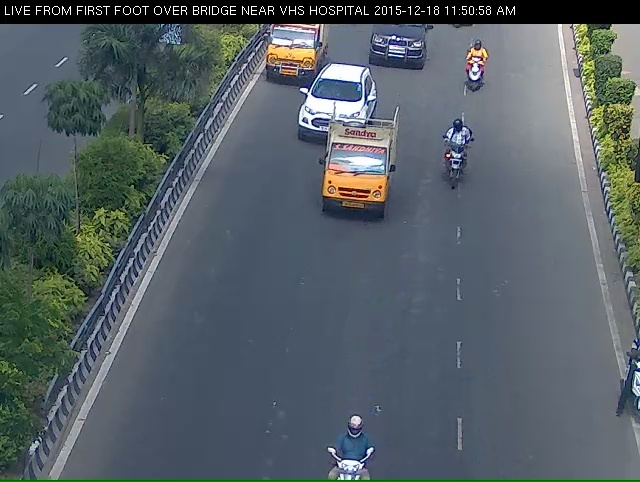Auto: (321, 131, 398, 237), (258, 21, 320, 93)
Car: (293, 67, 365, 146), (361, 23, 432, 74)
Person: (443, 126, 471, 195), (467, 45, 487, 102)
